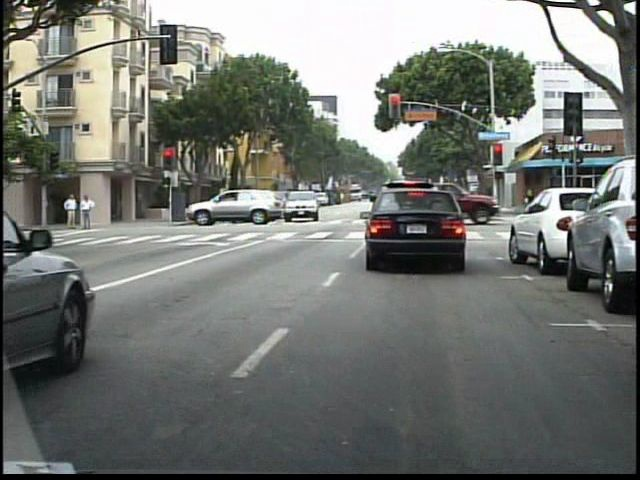person: (58, 190, 76, 233), (76, 191, 92, 232)
